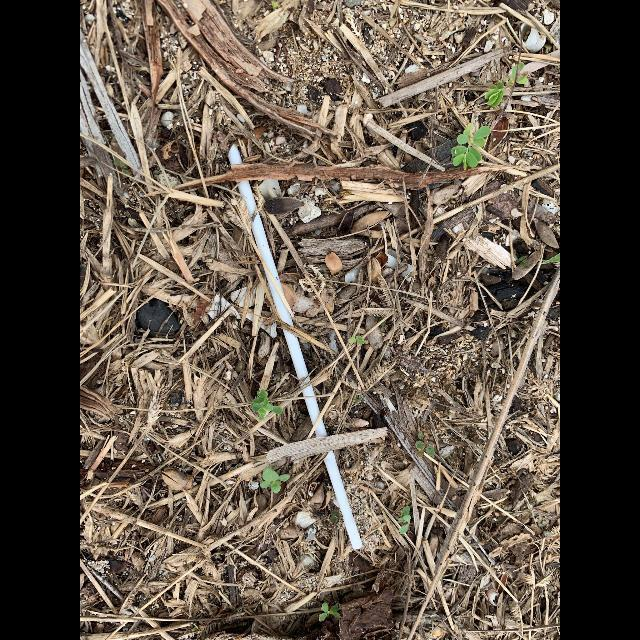Plastic: (228, 141, 362, 549)
